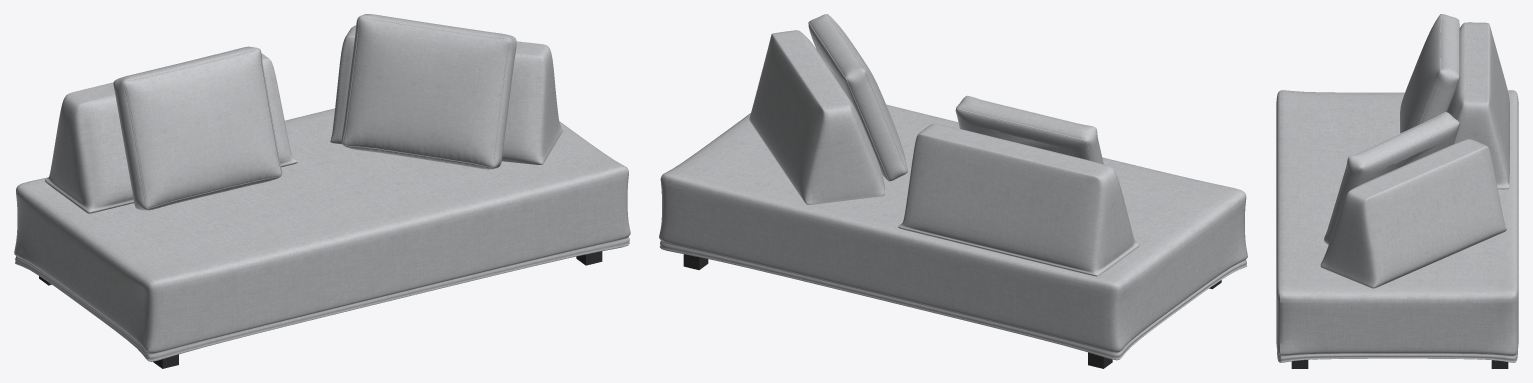
File: playground_sofa.gltf
3 views of the same model, side by side, from view 1: azimuth 30°, elevation 25°; view 2: azimuth 150°, elevation 25°; view 3: azimuth 270°, elevation 25° (orthographic). The views are drawn at different scales.
Parts seen in each view (by area): view 1: playgroundsofa2; view 2: playgroundsofa2; view 3: playgroundsofa2.
Part boxes in pixels (box(x1,y1,x2,y2)): playgroundsofa2: box(14, 14, 630, 368); playgroundsofa2: box(659, 14, 1247, 368); playgroundsofa2: box(1276, 14, 1518, 368).
Bounding box in the file's own units: 2.12 × 0.9137 × 1.05.
1 material, 1 textured.
